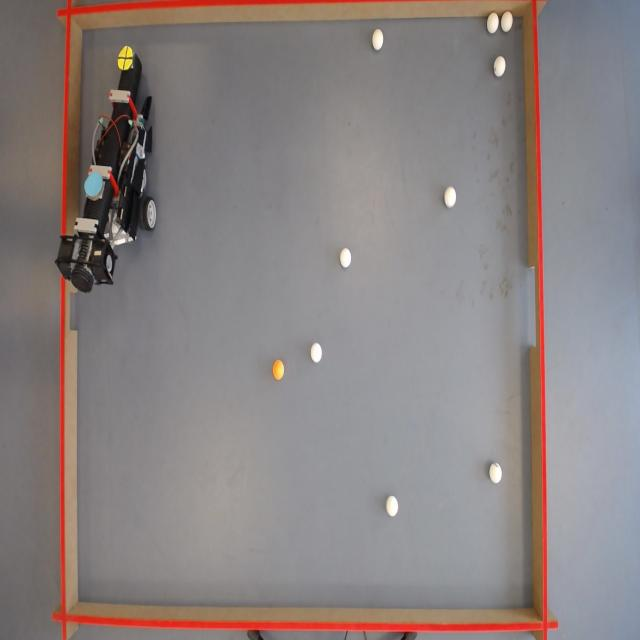orange: (272, 360, 286, 380)
robot: (55, 49, 160, 301)
robot-front: (118, 43, 134, 72)
robot-rear: (85, 169, 106, 199)
white: (372, 29, 386, 52), (386, 495, 400, 517), (310, 343, 324, 364), (494, 56, 507, 78), (487, 14, 500, 35), (445, 188, 458, 209), (490, 463, 503, 483), (501, 11, 513, 31), (340, 248, 352, 268)
